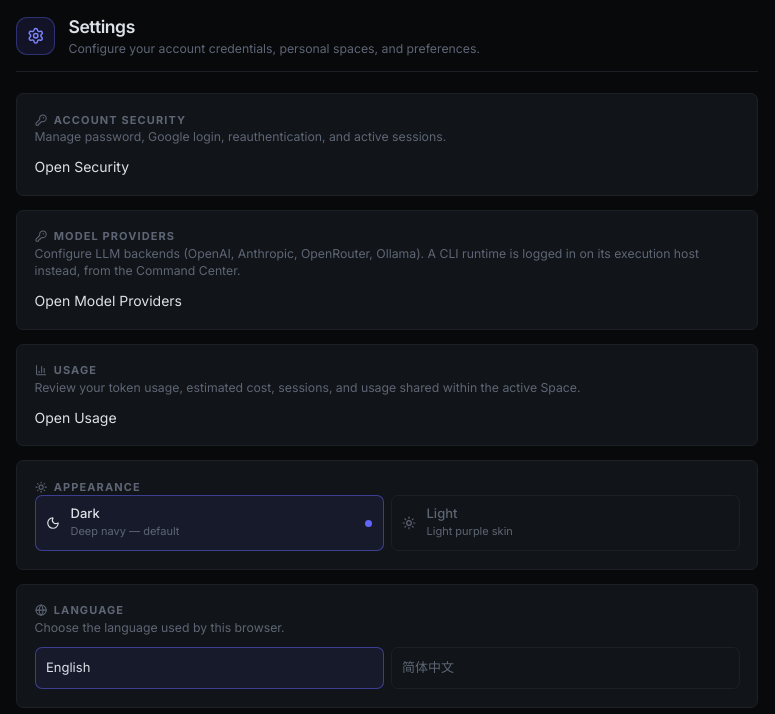
Test: SettingsPage — create space › switches the interface to Chinese and remembers the browser language
Click the button "简体中文".
click(428, 667)  # box [390,646,740,689]
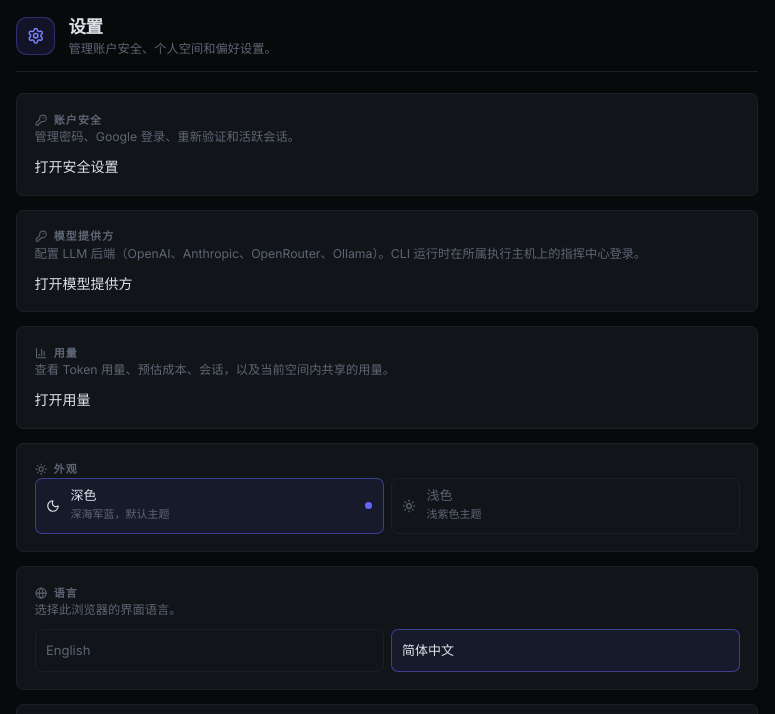
Expected: the heading "设置" is shown, [68,16,103,37]
